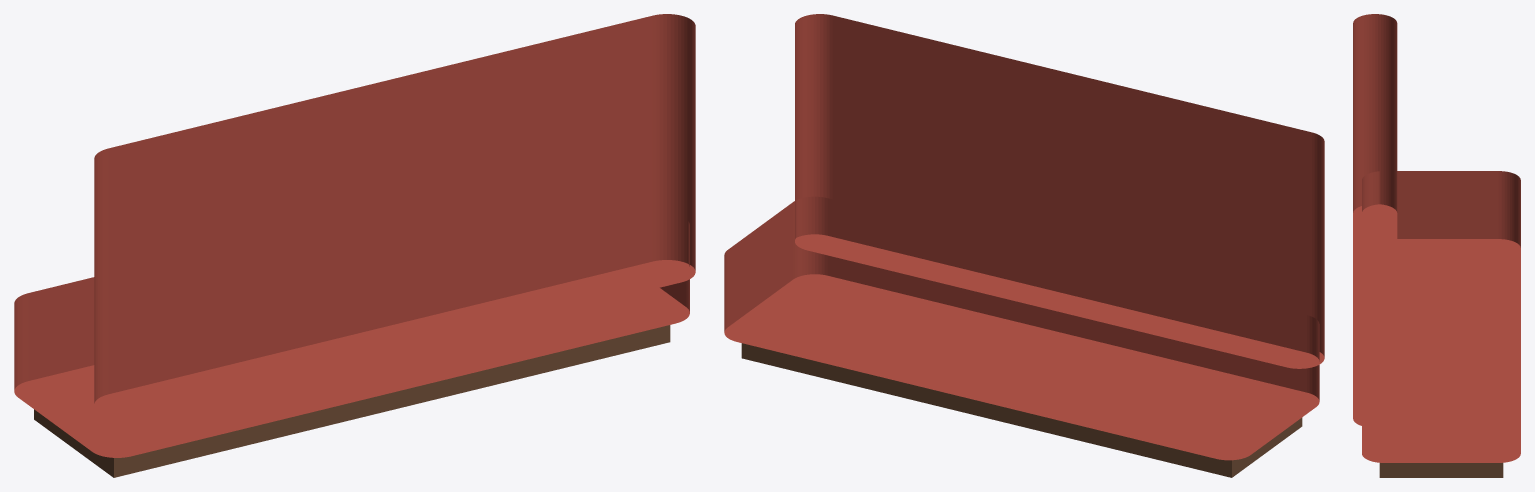
The model's file is booth.glb.
3 views of the same model, side by side, from view 1: azimuth 30°, elevation 25°; view 2: azimuth 150°, elevation 25°; view 3: azimuth 270°, elevation 25° (orthographic). The views are drawn at different scales.
Parts seen in each view (by area): view 1: BoothBack, BoothSeat, BoothBase; view 2: BoothBack, BoothSeat, BoothBase; view 3: BoothSeat, BoothBack, BoothBase.
Boxes of the visible parts, x1,y1,x2,y2 form: BoothBack: (94,14,695,416); BoothSeat: (14,221,689,457); BoothBase: (34,325,670,477); BoothBack: (795,14,1324,368); BoothSeat: (724,196,1319,460); BoothBase: (741,343,1302,477); BoothSeat: (1362,171,1520,462); BoothBack: (1353,14,1397,427); BoothBase: (1379,463,1503,477).
Size of the model in its own units: 2.4 by 1.23 by 0.76.
